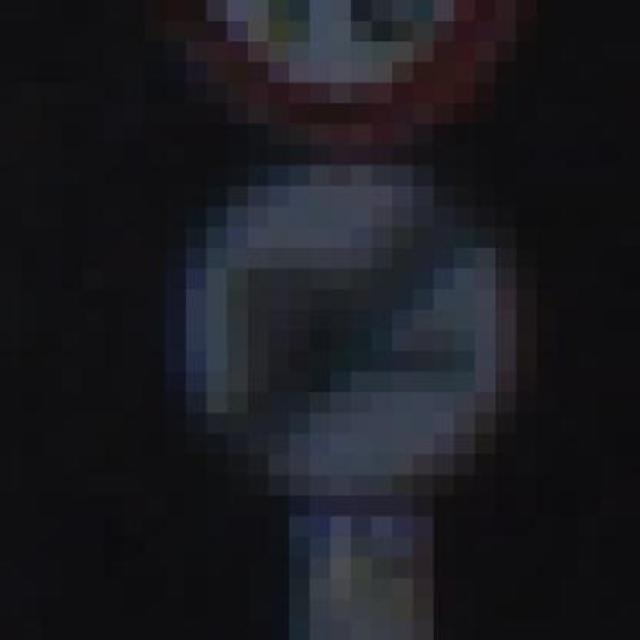Overtaking by trucks is prohibited: (103, 124, 579, 516)
